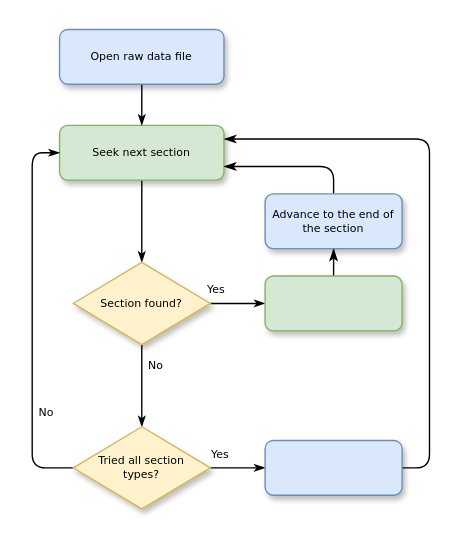
Image size: 464x543. Some labels were removed from this diagram. The centre of each missing label's shape, as x and y in pixels:
Advance one line: point (334, 469)
Read Section: point (334, 304)
